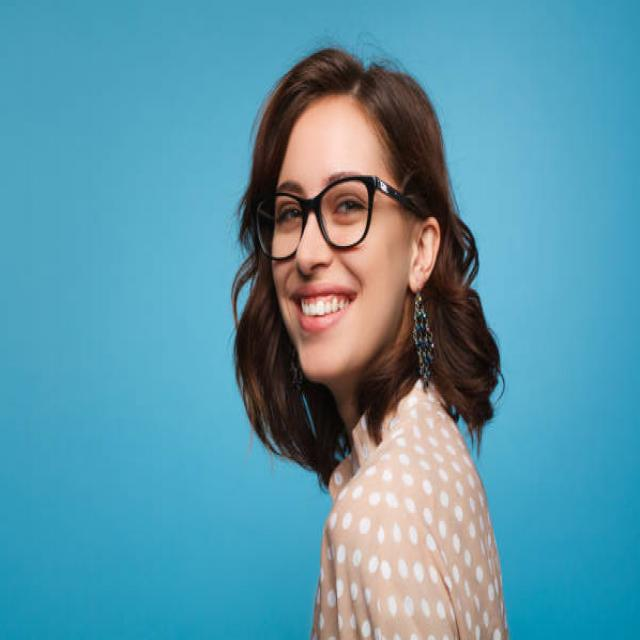Glasses: (254, 172, 407, 265)
